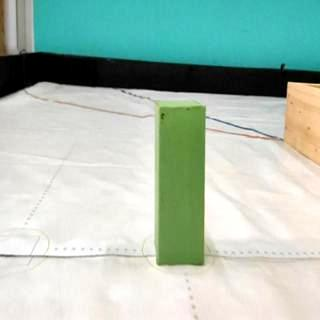greenbox: (152, 98, 208, 263)
